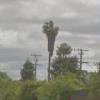Palm tree: (34, 12, 70, 79)
